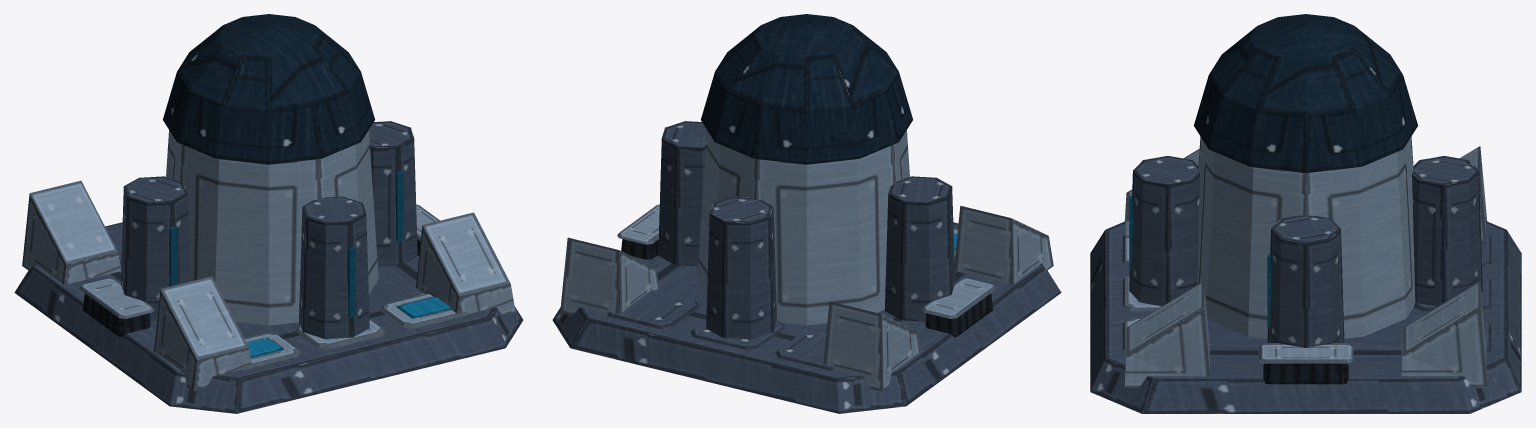
The model's file is building-lab.fbx.
3 renders of one model, left to right at view 1: azimuth 30°, elevation 25°; view 2: azimuth 150°, elevation 25°; view 3: azimuth 270°, elevation 25°, orthographic. The views are drawn at different scales.
Parts seen in each view (by area): view 1: building-lab; view 2: building-lab; view 3: building-lab.
Part boxes in pixels (x1,y1,x2,y2): building-lab: (14,14,523,413); building-lab: (552,14,1061,413); building-lab: (1090,14,1521,413).
Bounding box in the file's own units: 2184 × 1668 × 2184.
Materials: 1 (1 with a texture image).
